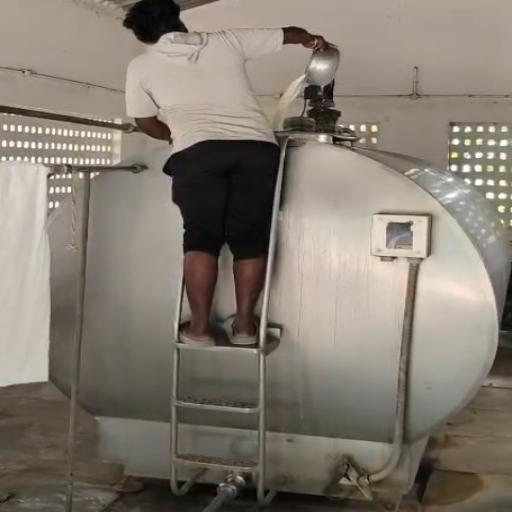silo: (48, 127, 511, 500)
vessel: (300, 47, 341, 86)
